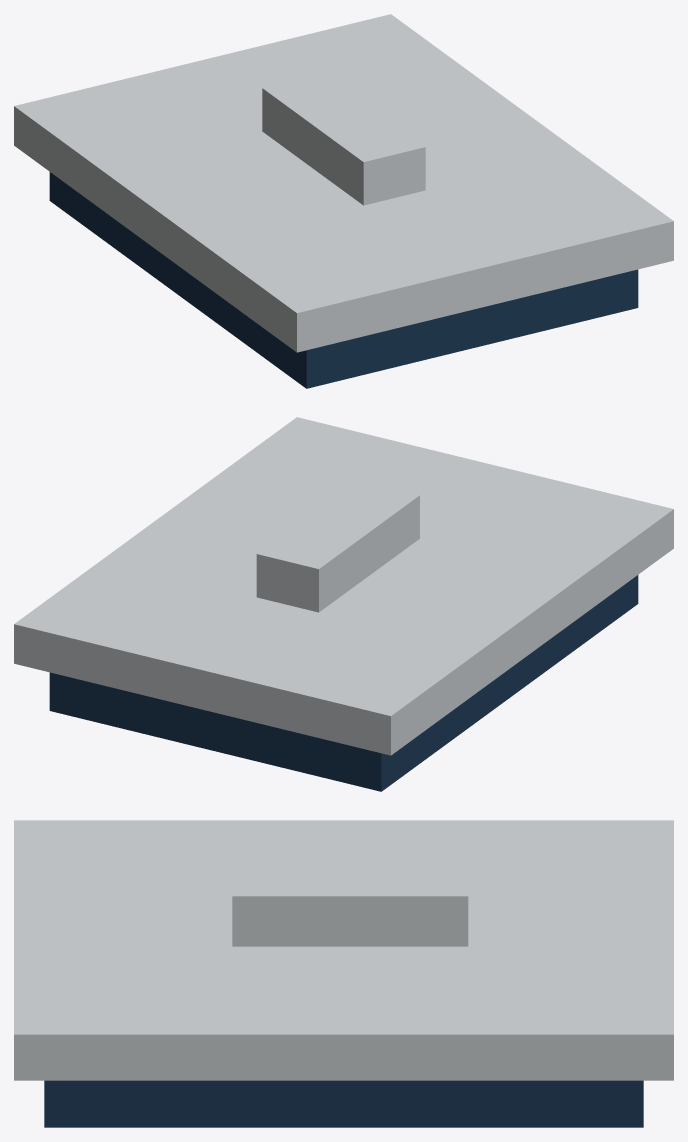
Rendered from top-prebuilt_far.fbx.
The picture shows the model from 3 angles, top to bottom: view 1: azimuth 30°, elevation 25°; view 2: azimuth 150°, elevation 25°; view 3: azimuth 270°, elevation 25°; orthographic projection. The views are drawn at different scales.
Parts seen in each view (by area): view 1: a2010/0/top-prebuilt_far; view 2: a2010/0/top-prebuilt_far; view 3: a2010/0/top-prebuilt_far.
Part boxes in pixels (x1,y1,x2,y2): a2010/0/top-prebuilt_far: (14,14,673,388); a2010/0/top-prebuilt_far: (14,417,673,791); a2010/0/top-prebuilt_far: (14,820,673,1127).
Bounding box in the file's own units: 20 × 6.8 × 26.
